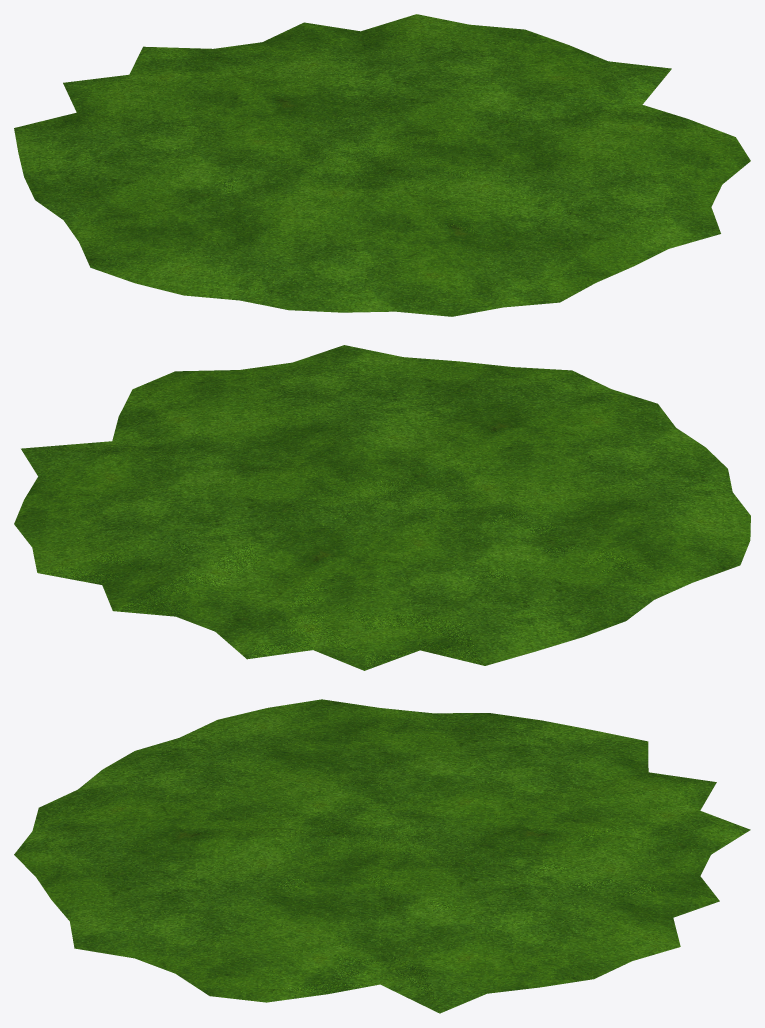
File: ground_moss_carpet_v01.glb
The picture shows the model from 3 angles, top to bottom: view 1: azimuth 30°, elevation 25°; view 2: azimuth 150°, elevation 25°; view 3: azimuth 270°, elevation 25°; orthographic projection. The views are drawn at different scales.
Parts seen in each view (by area): view 1: ground_moss_carpet_v01; view 2: ground_moss_carpet_v01; view 3: ground_moss_carpet_v01.
Boxes of the visible parts, x1=… form: ground_moss_carpet_v01: x1=14, y1=14, x2=750, y2=316; ground_moss_carpet_v01: x1=14, y1=345, x2=750, y2=670; ground_moss_carpet_v01: x1=14, y1=699, x2=750, y2=1013.
Bounding box in the file's own units: 1.07 × 0.029 × 1.06.
Materials: 1 (1 with a texture image).
